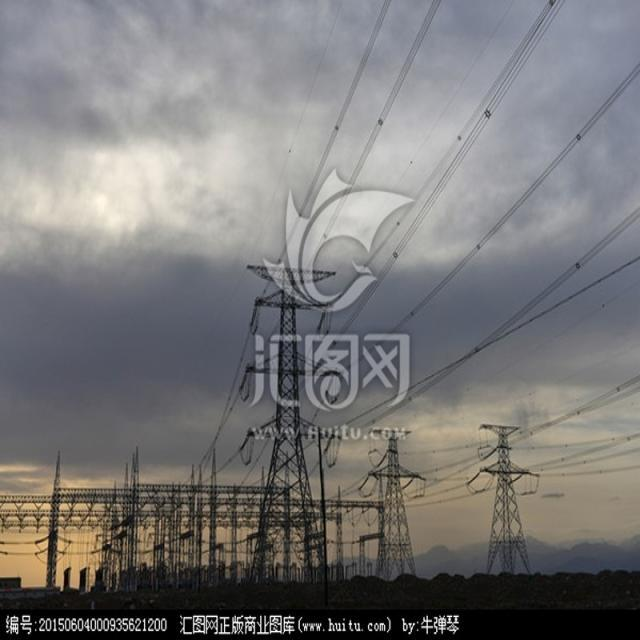non-critical vegetation: (230, 257, 334, 580), (480, 415, 537, 576), (373, 413, 422, 578)
